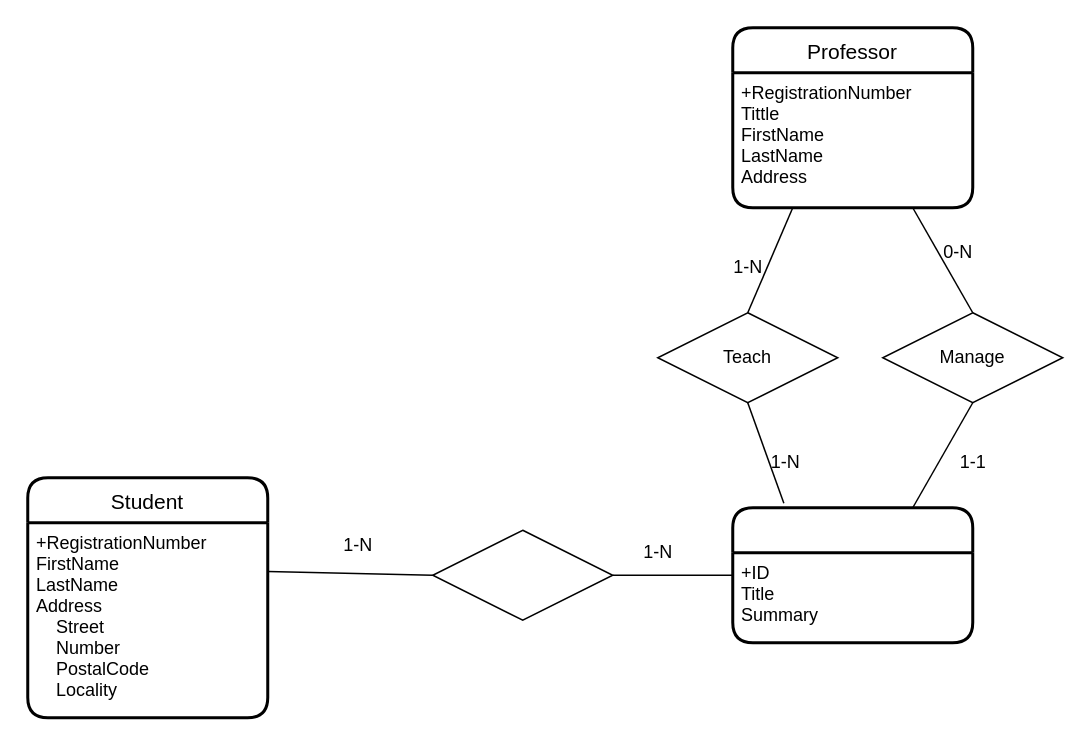
The diagram is 1089 pixels wide and 744 high, and some of its shapes have lost their labels. The box of each missing label's shape, as (x1, y1, x2, y2) in pixels:
Cursus: (730, 506, 974, 644)
Follow: (431, 529, 613, 620)
